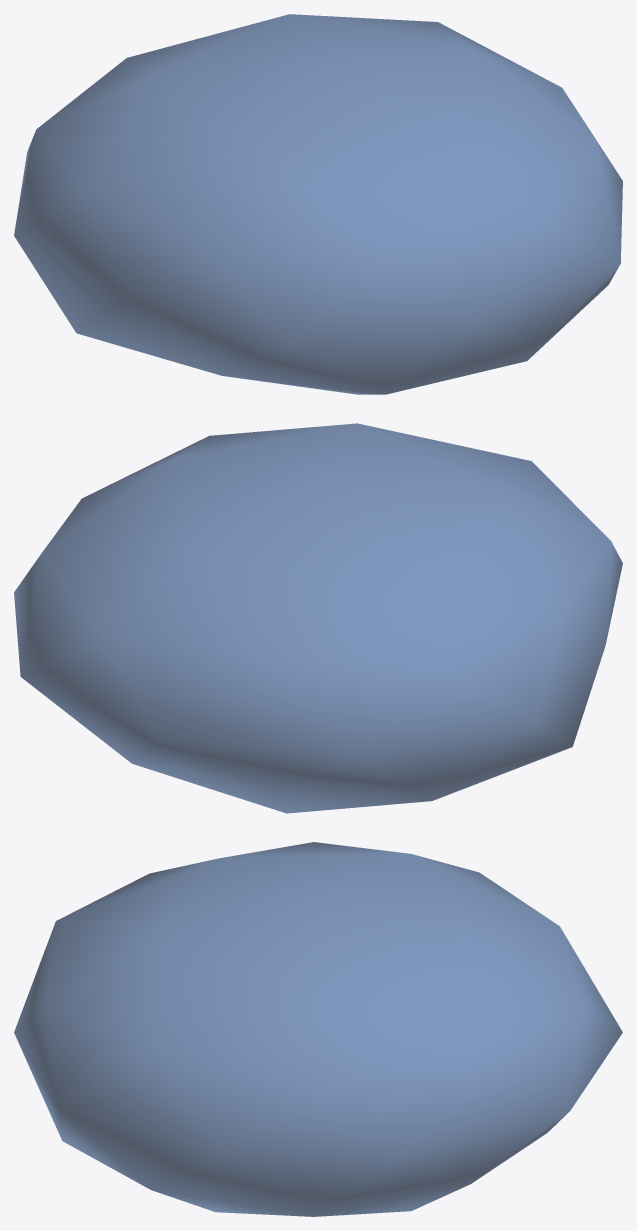
The model's file is sea-glass-2.glb.
3 renders of one model, top to bottom at view 1: azimuth 30°, elevation 25°; view 2: azimuth 150°, elevation 25°; view 3: azimuth 270°, elevation 25°, orthographic. The views are drawn at different scales.
Visible parts, largest first — view 1: sea-glass-2; view 2: sea-glass-2; view 3: sea-glass-2.
Boxes of the visible parts, <box> form: sea-glass-2: <box>14,14,622,394</box>; sea-glass-2: <box>14,423,622,813</box>; sea-glass-2: <box>14,842,622,1216</box>.
Bounding box in the file's own units: 0.2901 × 0.1559 × 0.3042.
